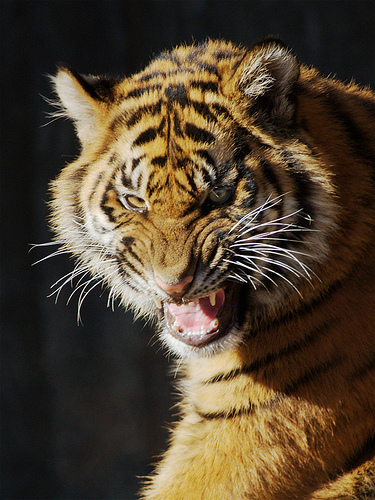Tigre: (30, 30, 368, 366)
